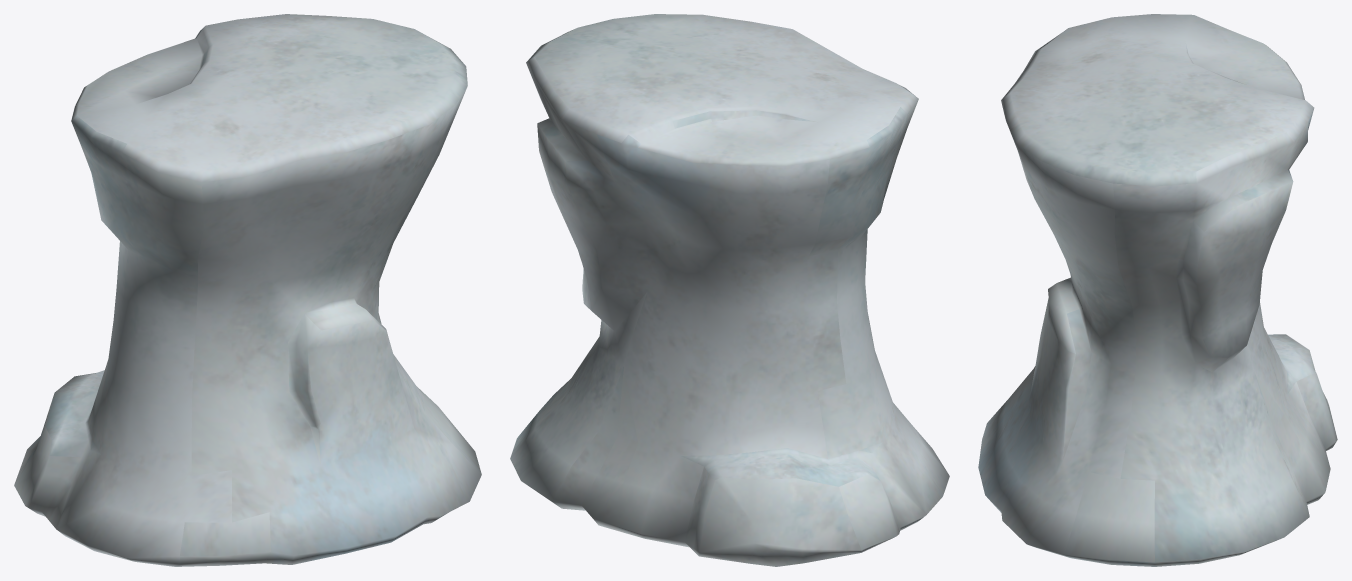
File: P_RockDesert_CliffA04.obj
3 renders of one model, left to right at view 1: azimuth 30°, elevation 25°; view 2: azimuth 150°, elevation 25°; view 3: azimuth 270°, elevation 25°, orthographic. The views are drawn at different scales.
Size of the model in its own units: 52.54 by 52.12 by 41.93.
